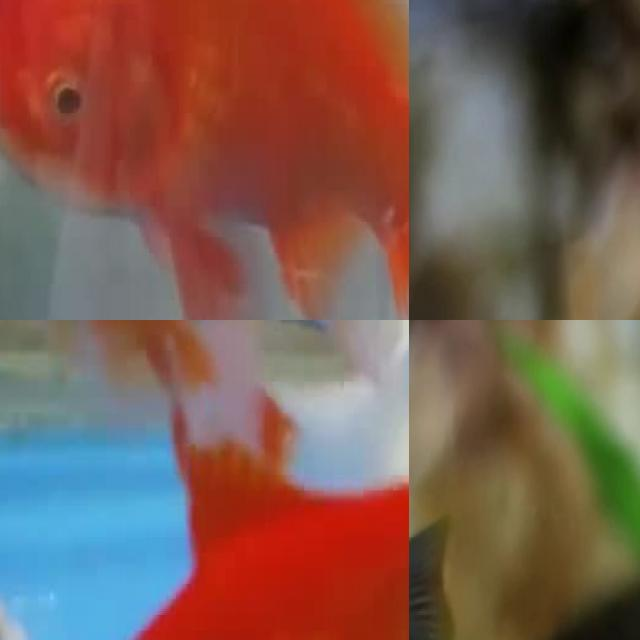fish: (0, 0, 409, 320), (27, 323, 409, 640), (510, 510, 640, 640)
